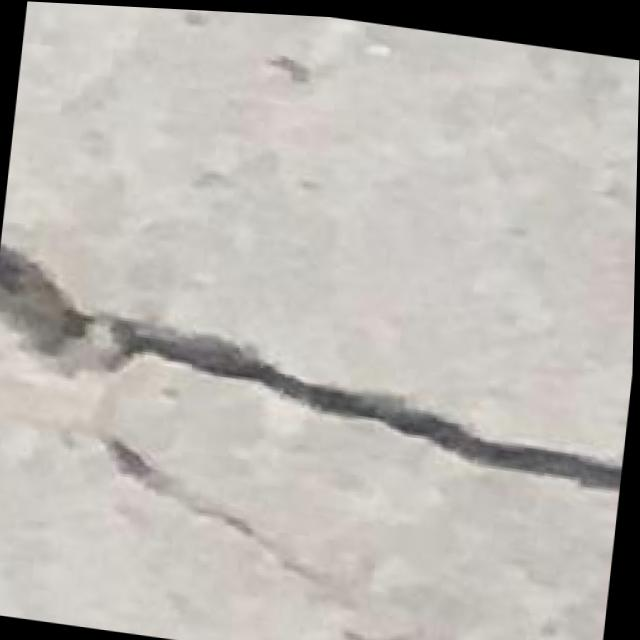Crack: (0, 232, 636, 488), (63, 412, 400, 608), (333, 589, 528, 640)
